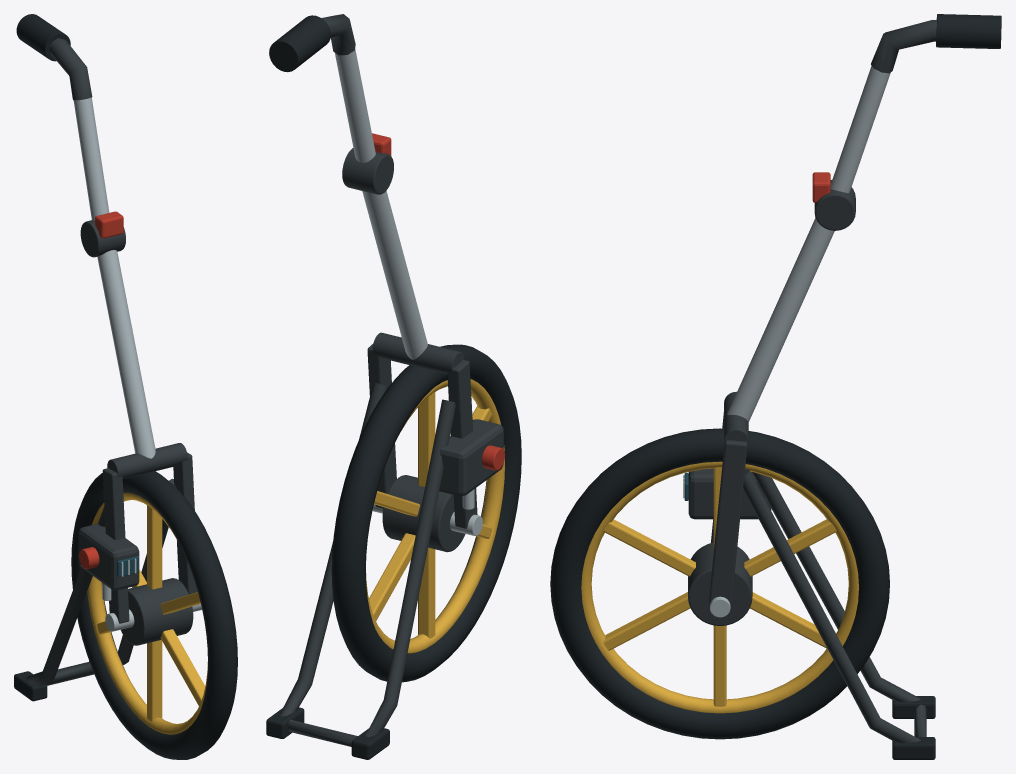
File: city-measuring-wheel.glb
3 views of the same model, side by side, from view 1: azimuth 30°, elevation 25°; view 2: azimuth 150°, elevation 25°; view 3: azimuth 270°, elevation 25° (orthographic). The views are drawn at different scales.
Parts seen in each view (by area): view 1: Assembly | Matte dark grip rubber, Assembly | Dark powder coated structure, Assembly | Warm safety yellow polymer, Assembly | Satin metal fittings, Assembly | Red control accent; view 2: Assembly | Matte dark grip rubber, Assembly | Dark powder coated structure, Assembly | Warm safety yellow polymer, Assembly | Satin metal fittings, Assembly | Red control accent; view 3: Assembly | Matte dark grip rubber, Assembly | Dark powder coated structure, Assembly | Warm safety yellow polymer, Assembly | Satin metal fittings.
Part boxes in pixels (x1,y1,x2,y2): Assembly | Matte dark grip rubber: [14, 14, 237, 759]; Assembly | Dark powder coated structure: [26, 38, 197, 686]; Assembly | Warm safety yellow polymer: [87, 492, 207, 734]; Assembly | Satin metal fittings: [73, 97, 201, 631]; Assembly | Red control accent: [79, 211, 123, 569]; Assembly | Matte dark grip rubber: [266, 15, 521, 759]; Assembly | Dark powder coated structure: [280, 14, 503, 746]; Assembly | Warm safety yellow polymer: [366, 379, 504, 653]; Assembly | Satin metal fittings: [335, 48, 482, 535]; Assembly | Red control accent: [372, 133, 504, 470]; Assembly | Matte dark grip rubber: [550, 14, 1001, 759]; Assembly | Dark powder coated structure: [688, 20, 936, 742]; Assembly | Warm safety yellow polymer: [581, 461, 858, 713]; Assembly | Satin metal fittings: [710, 66, 890, 617].
Bounding box in the file's own units: 0.226 × 1.23 × 0.6987.
